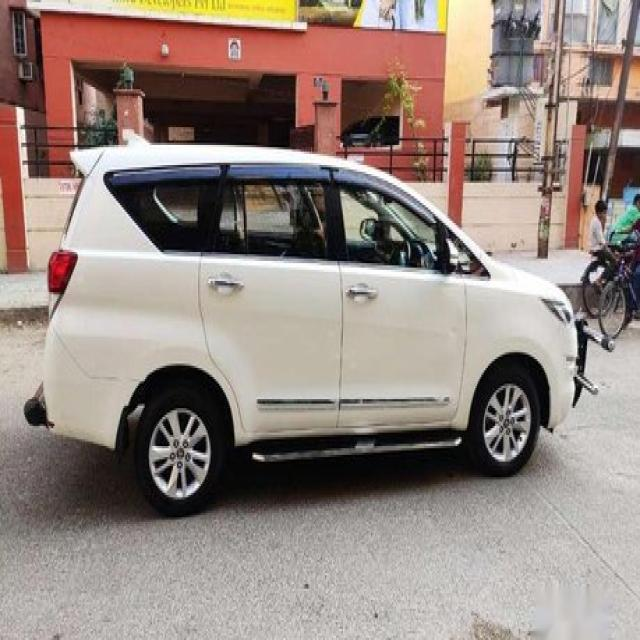light_vehicle: (39, 142, 586, 518)
